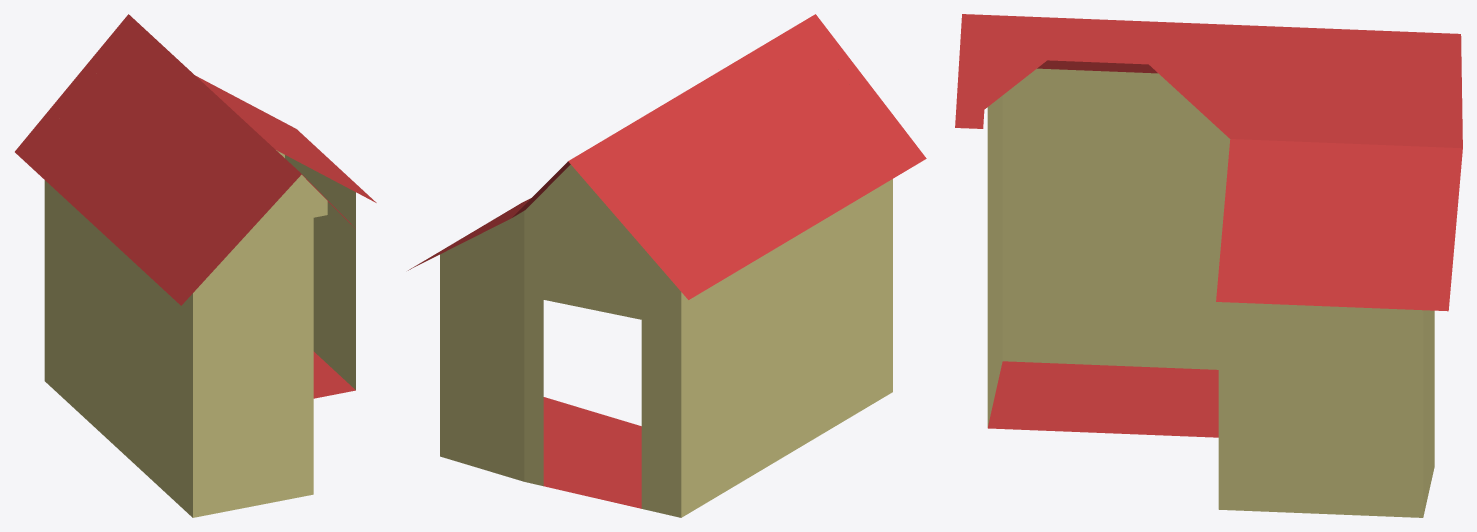
The picture shows the model from 3 angles, left to right: view 1: azimuth 30°, elevation 25°; view 2: azimuth 150°, elevation 25°; view 3: azimuth 270°, elevation 25°; orthographic projection. The views are drawn at different scales.
Bounding box in the file's own units: 15.28 × 17.94 × 15.65.
